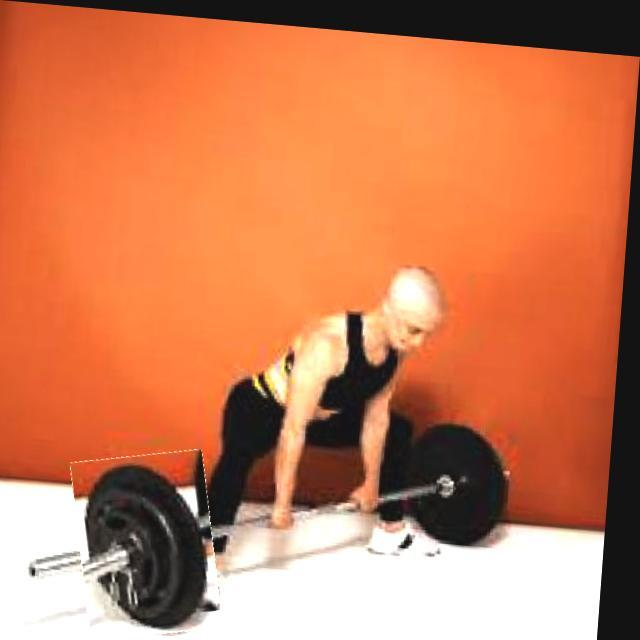barbell: (77, 443, 235, 640)
